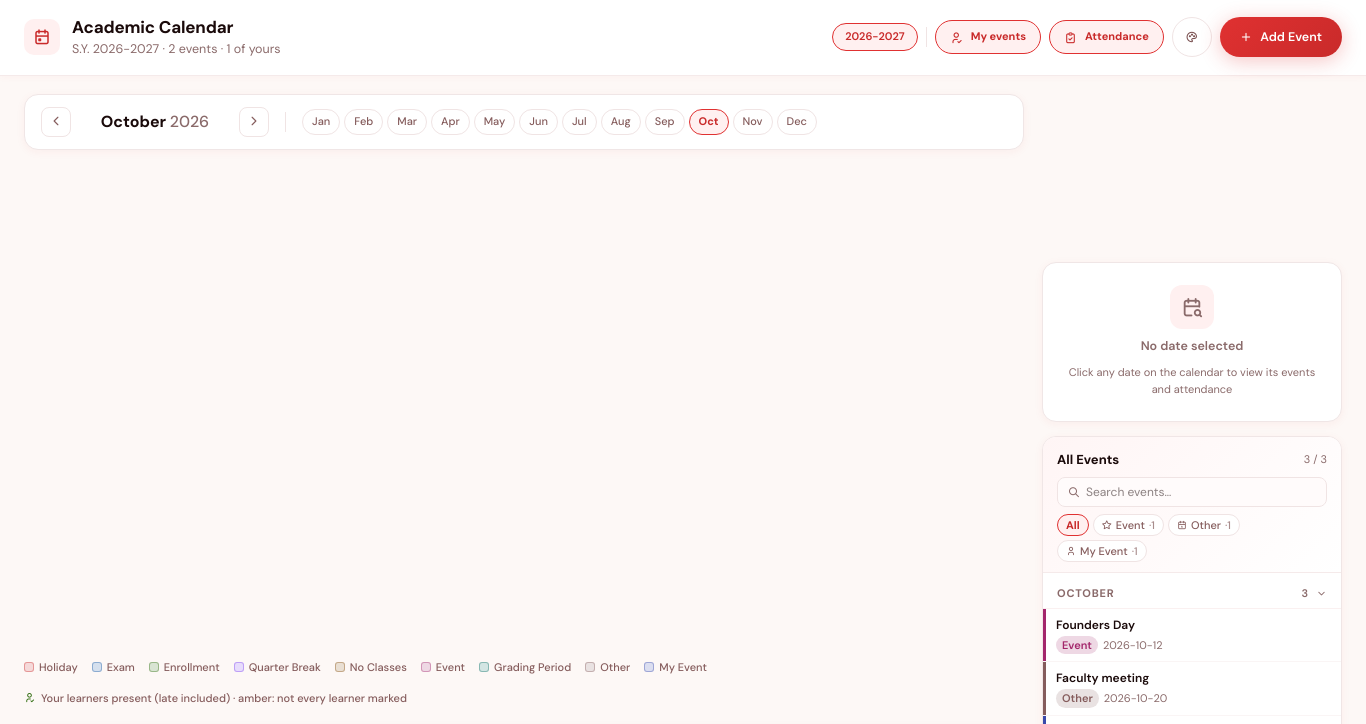
Test: My events › hides them with the toggle, and remembers that per person
Click the checkbox labelled "My events": (988, 37) [935,20,1041,54]
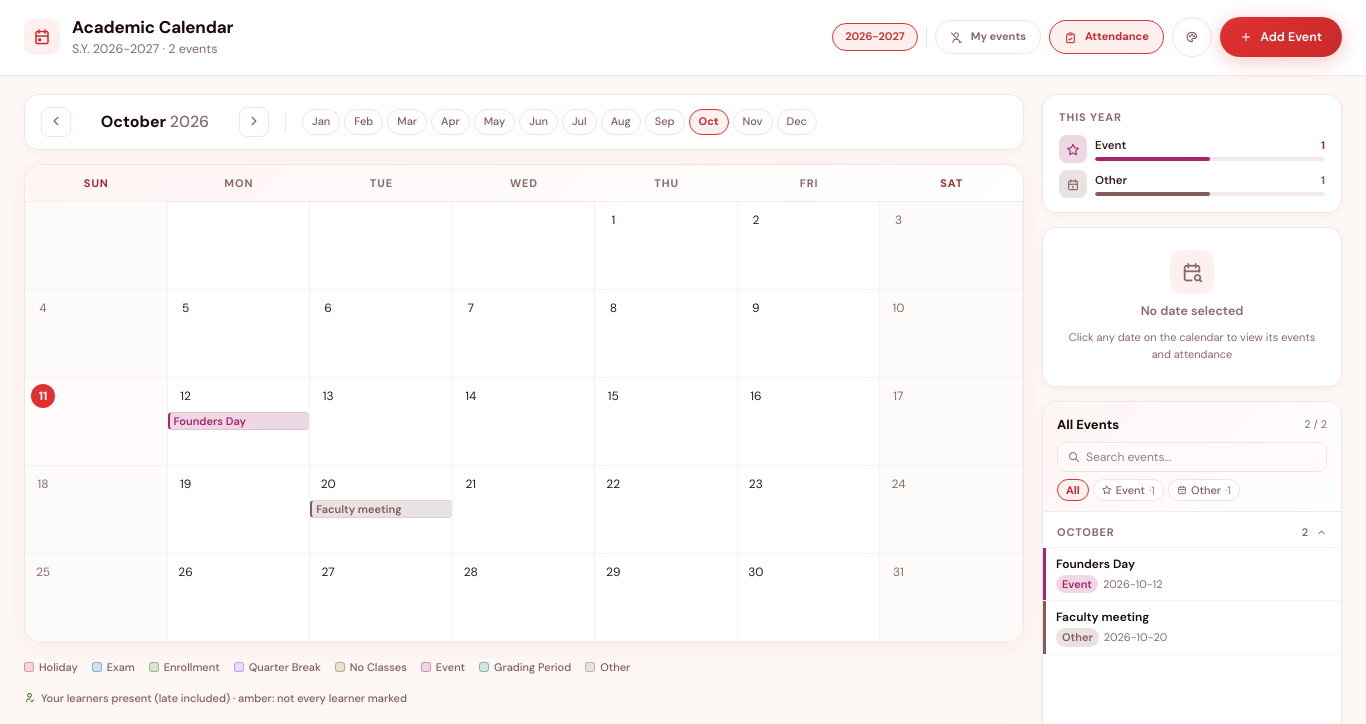
Now the text "Dentist" is not shown
